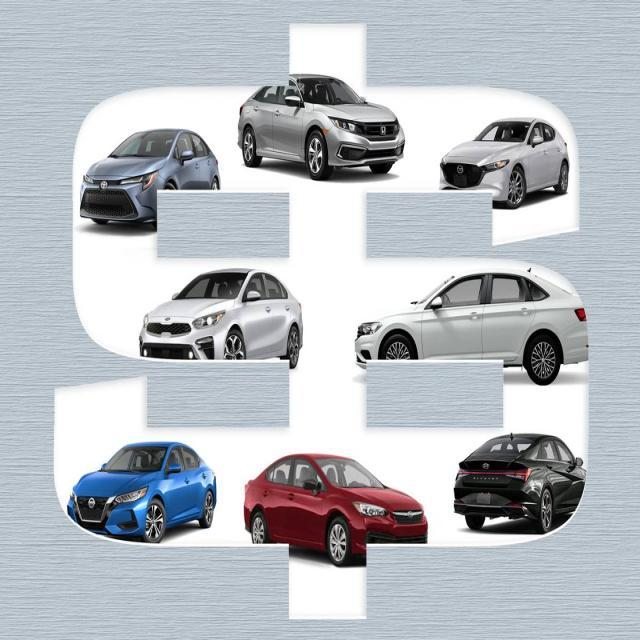pickup: (354, 260, 588, 386), (243, 452, 428, 566), (237, 72, 405, 180), (138, 267, 303, 368), (66, 440, 216, 543), (80, 126, 220, 229), (453, 431, 586, 533), (439, 115, 569, 209)
